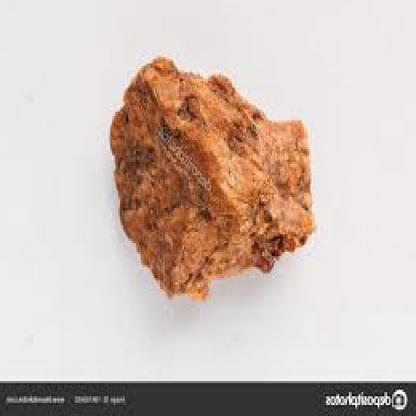Metamorphic_Quartize: (106, 52, 322, 307)
